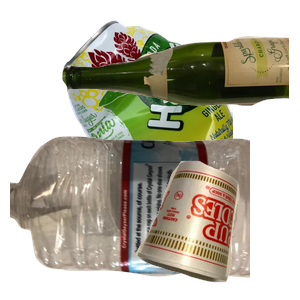glass: (60, 34, 300, 133)
metal: (60, 18, 300, 198)
plastic: (10, 134, 250, 300)
trash: (133, 158, 300, 300)
